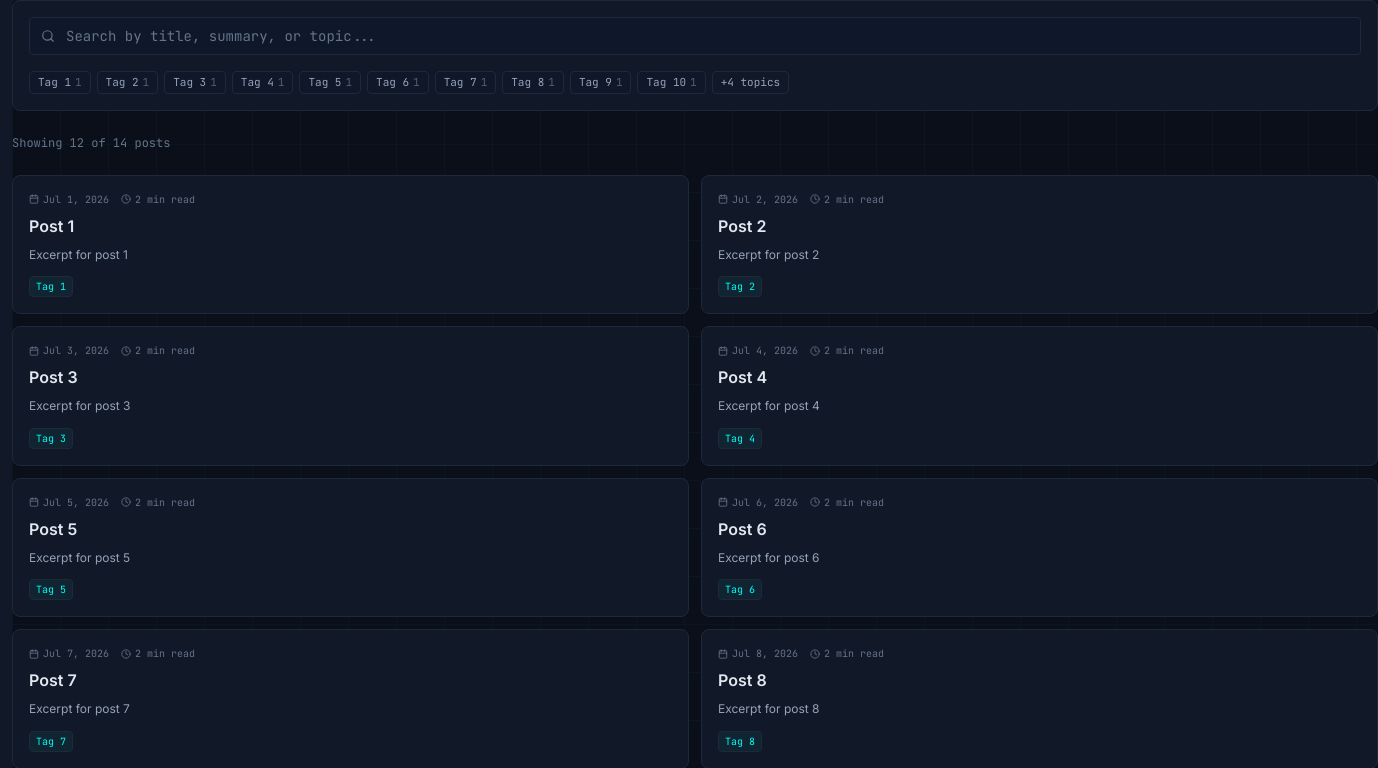
Test case: BlogIndex › keeps the topic list collapsed until requested
Check: the button "Tag 14" is not shown
Click the button "+4 topics". click: click(750, 82)
box: [712,71,789,94]
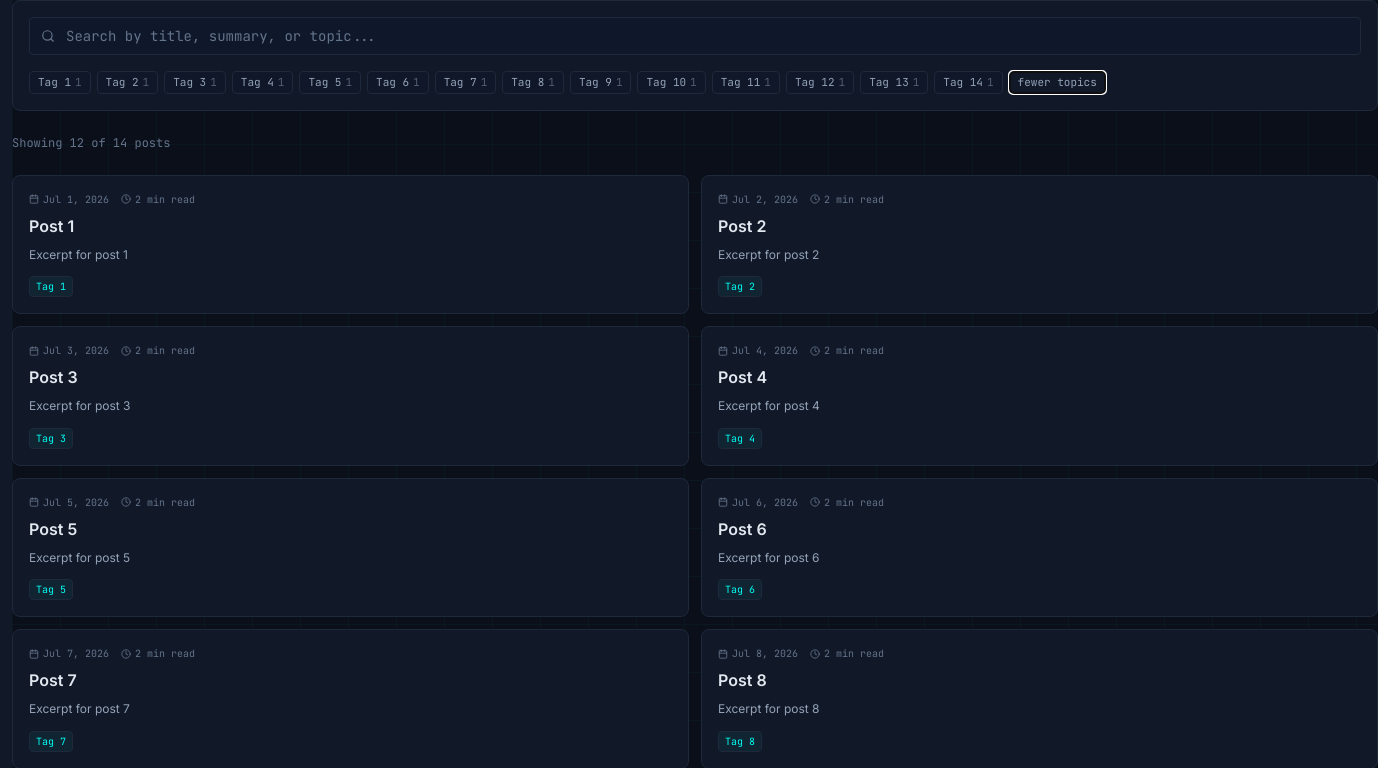
Check: the button "Tag 141" is shown, box [934,71,1003,94]
